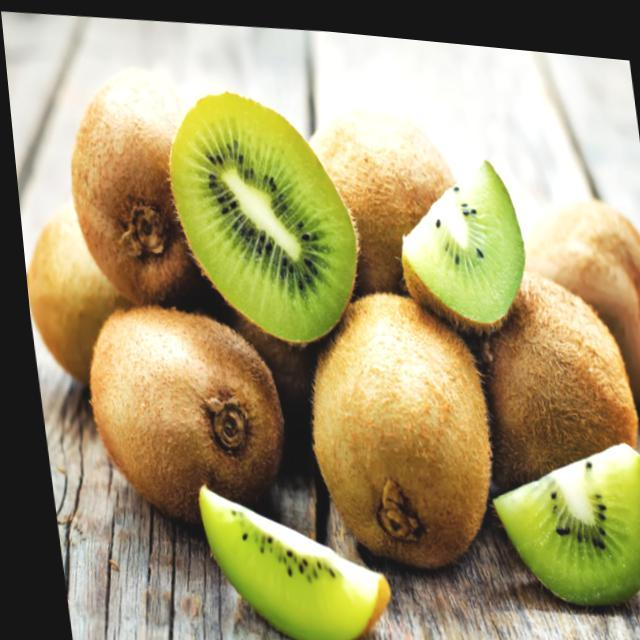kiwi: (289, 275, 496, 570), (72, 289, 288, 531), (436, 250, 640, 499), (55, 58, 236, 312), (284, 90, 474, 305), (16, 191, 207, 394), (489, 177, 640, 402)
